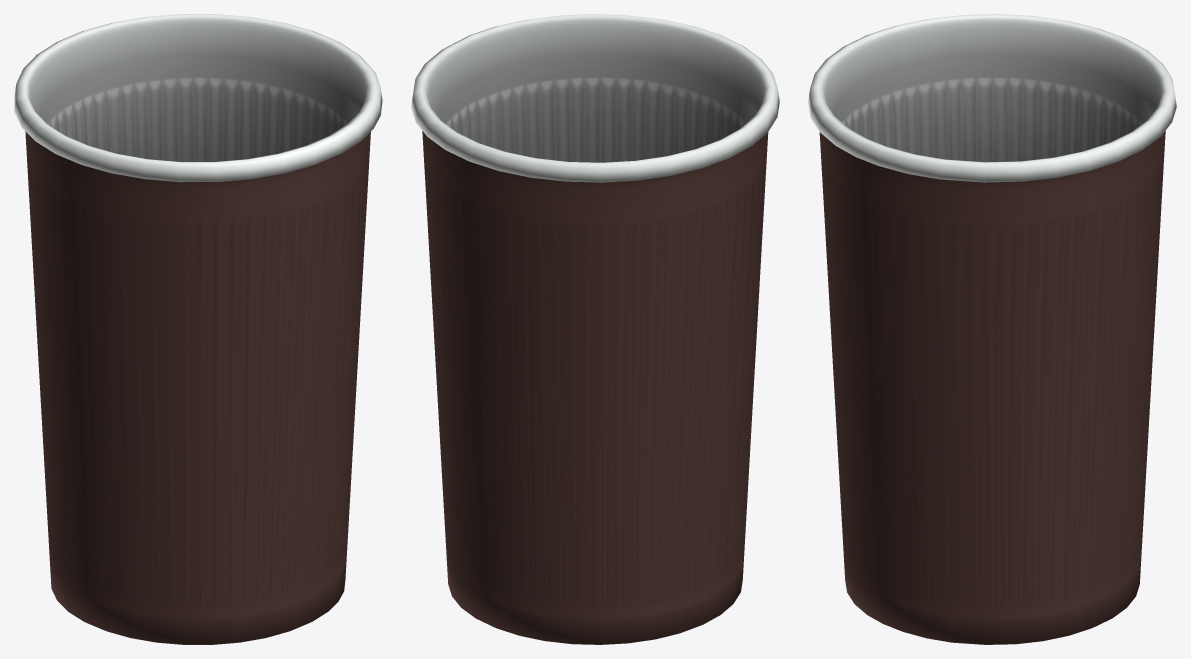
Rendered from cup2.fbx.
3 views of the same model, side by side, from view 1: azimuth 30°, elevation 25°; view 2: azimuth 150°, elevation 25°; view 3: azimuth 270°, elevation 25° (orthographic).
Parts seen in each view (by area): view 1: Plastic Cup; view 2: Plastic Cup; view 3: Plastic Cup.
Part boxes in pixels (<box>): Plastic Cup: <box>14,14,382,644</box>; Plastic Cup: <box>411,14,779,644</box>; Plastic Cup: <box>808,14,1176,644</box>.
Size of the model in its own units: 154 by 229 by 154.
